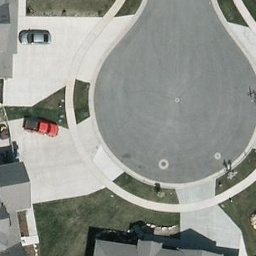car: (21, 112, 60, 139), (19, 26, 52, 44)
